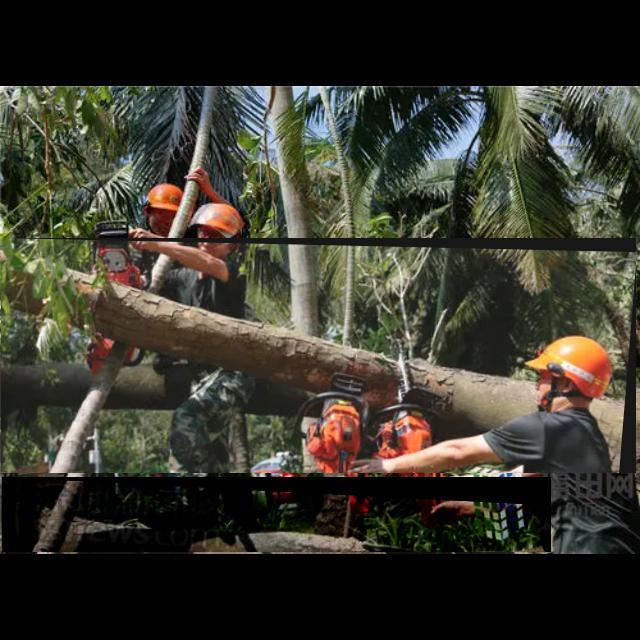fallen_tree: (1, 238, 637, 474), (2, 477, 552, 553)
